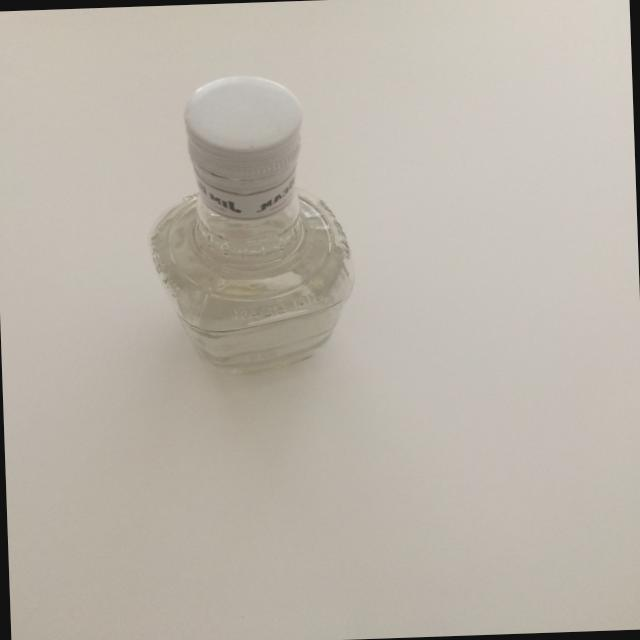Glass: (129, 60, 367, 392)
